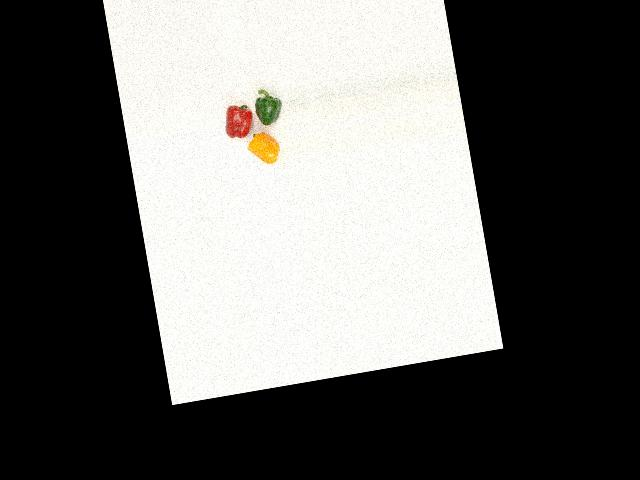bell_pepper: (250, 85, 285, 127)
